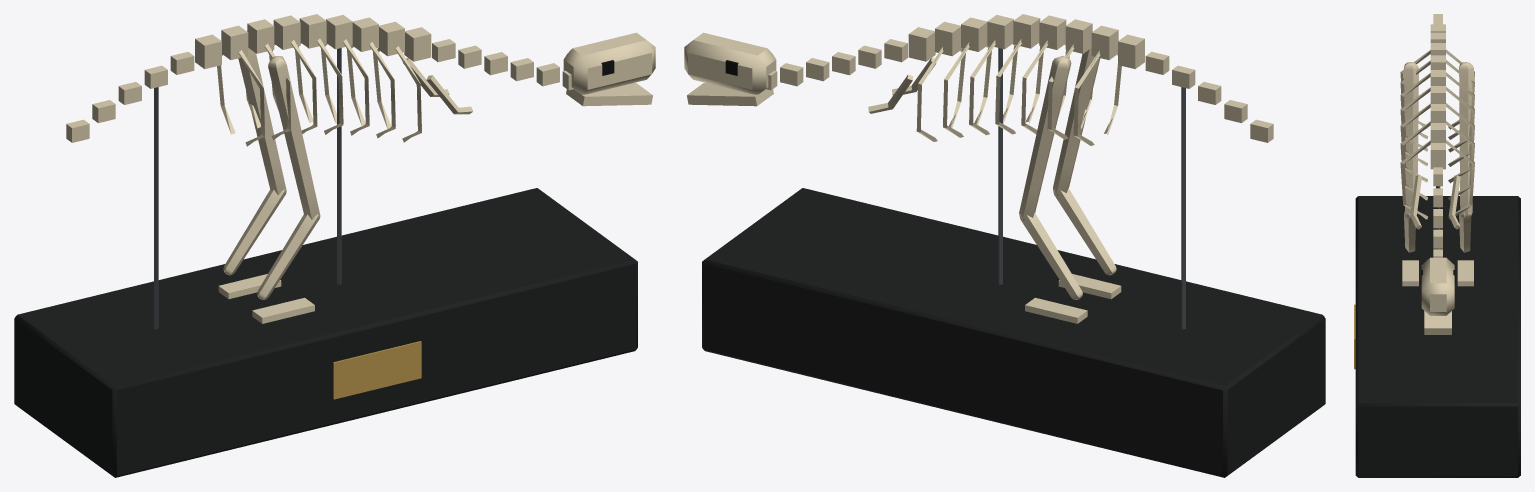
File: fossil_skeleton.glb
3 views of the same model, side by side, from view 1: azimuth 30°, elevation 25°; view 2: azimuth 150°, elevation 25°; view 3: azimuth 270°, elevation 25° (orthographic). The views are drawn at different scales.
Parts seen in each view (by area): view 1: Fossil; view 2: Fossil; view 3: Fossil.
Boxes of the visible parts, box(x1,y1,x2,y2) form: Fossil: box(14, 14, 655, 477); Fossil: box(684, 14, 1325, 477); Fossil: box(1354, 14, 1520, 477).
Size of the model in its own units: 2.01 by 1.21 by 0.6055.
